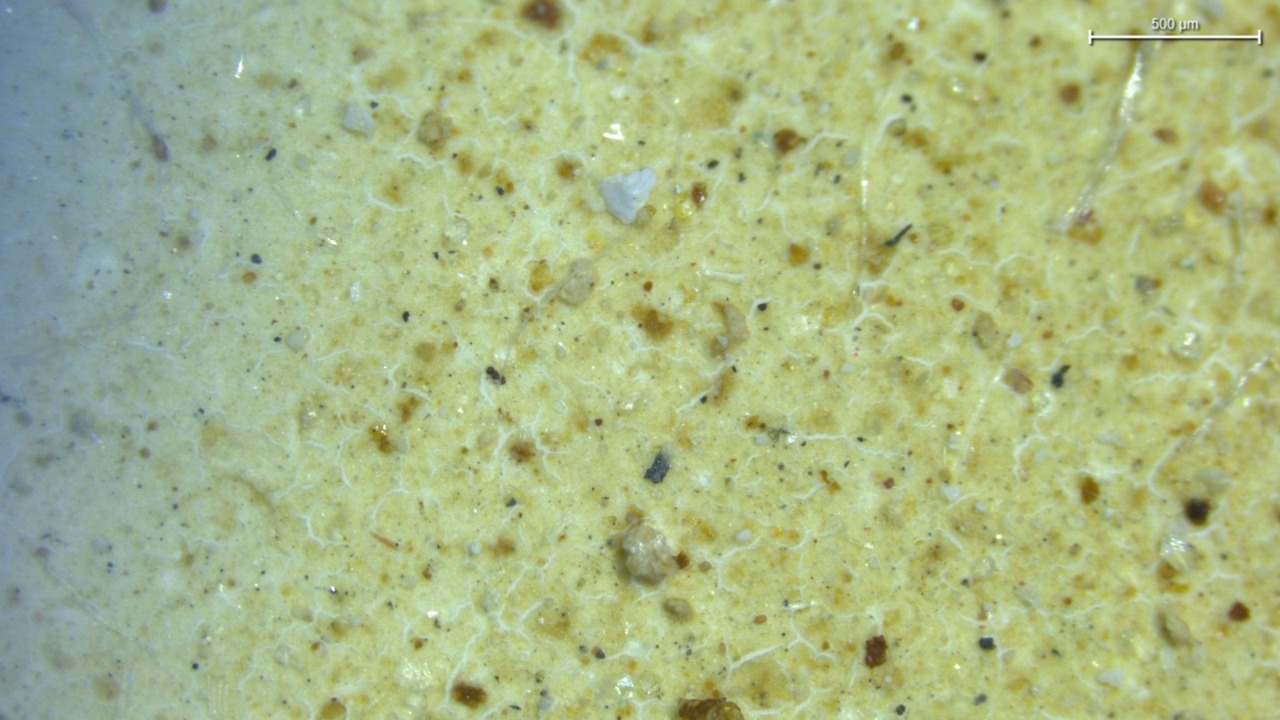microplastic_fragment: (593, 169, 659, 227), (620, 524, 675, 587), (421, 113, 453, 147), (345, 102, 374, 135)
